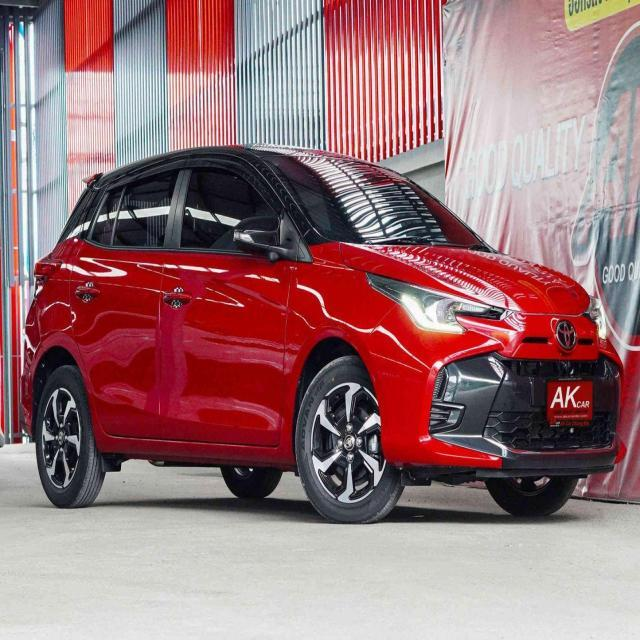Hatchback: (20, 146, 624, 527)
